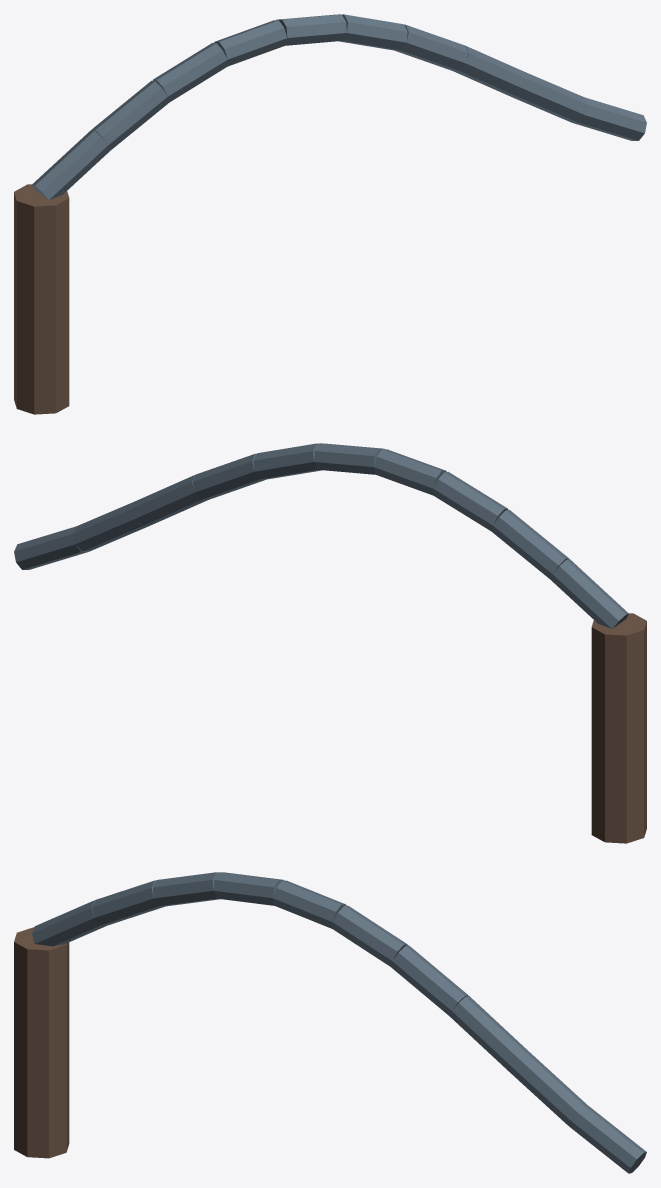
The model's file is SH10_Whip.fbx.
3 views of the same model, one above another, from view 1: azimuth 30°, elevation 25°; view 2: azimuth 150°, elevation 25°; view 3: azimuth 330°, elevation 25° (orthographic).
Visible parts, largest first — view 1: SH10_Whip; view 2: SH10_Whip; view 3: SH10_Whip.
Part boxes in pixels (box(x1,y1,x2,y2)): SH10_Whip: box(14, 14, 646, 414); SH10_Whip: box(14, 443, 646, 843); SH10_Whip: box(14, 872, 646, 1173).
Size of the model in its own units: 126 by 62.48 by 10.
